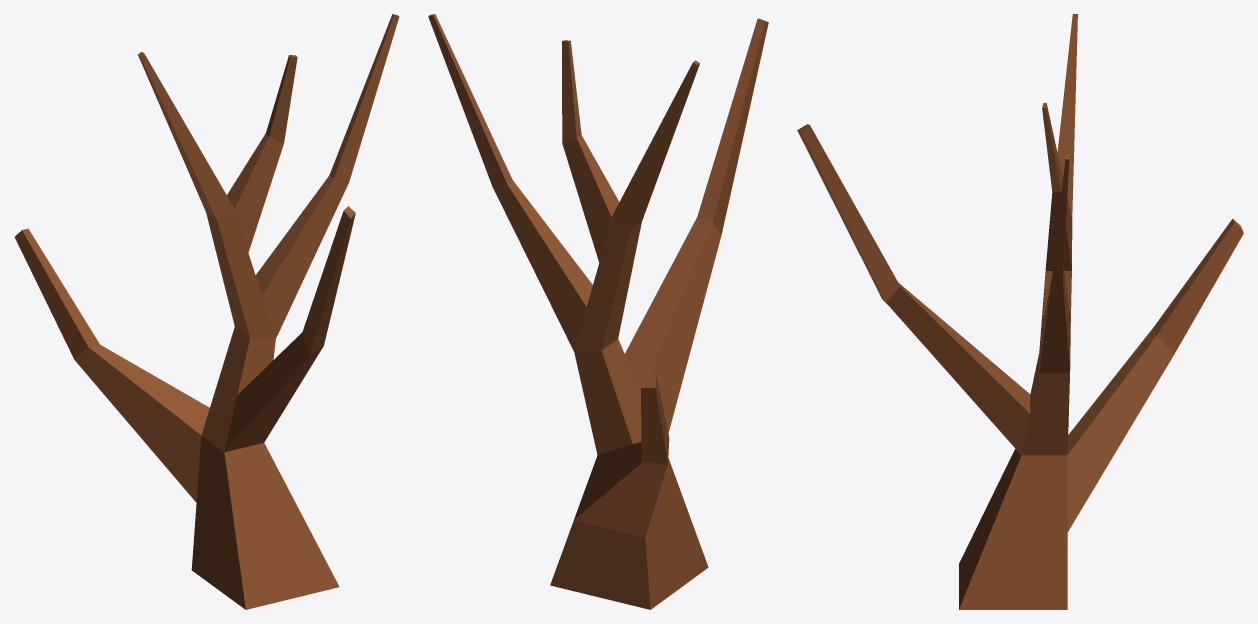
File: BushAutumn2_Alt3.fbx
3 views of the same model, side by side, from view 1: azimuth 30°, elevation 25°; view 2: azimuth 150°, elevation 25°; view 3: azimuth 270°, elevation 25° (orthographic). The views are drawn at different scales.
Parts seen in each view (by area): view 1: BushAutumn2_Alt3; view 2: BushAutumn2_Alt3; view 3: BushAutumn2_Alt3.
Boxes of the visible parts, x1=… form: BushAutumn2_Alt3: x1=14, y1=14, x2=399, y2=609; BushAutumn2_Alt3: x1=428, y1=14, x2=768, y2=609; BushAutumn2_Alt3: x1=797, y1=14, x2=1243, y2=609.
Size of the model in its own units: 0.3068 by 0.5177 by 0.397.
